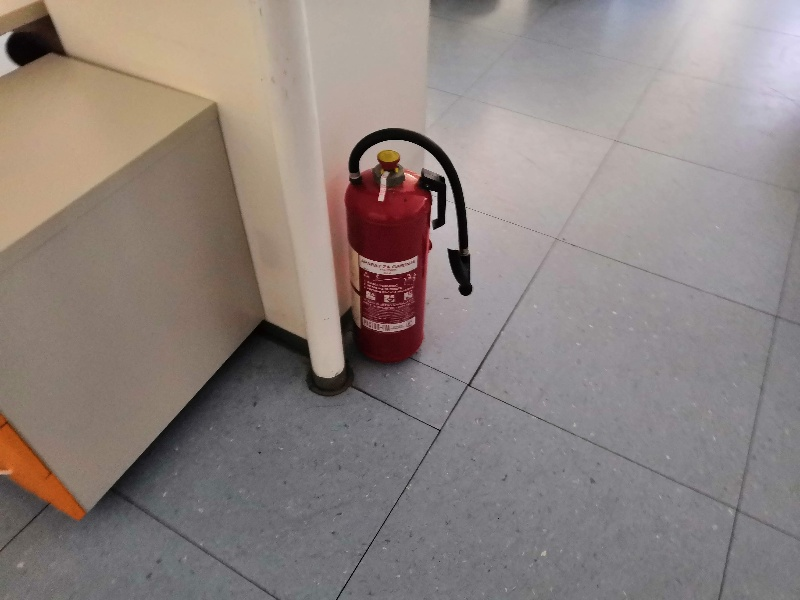vataparat: (344, 127, 474, 365)
